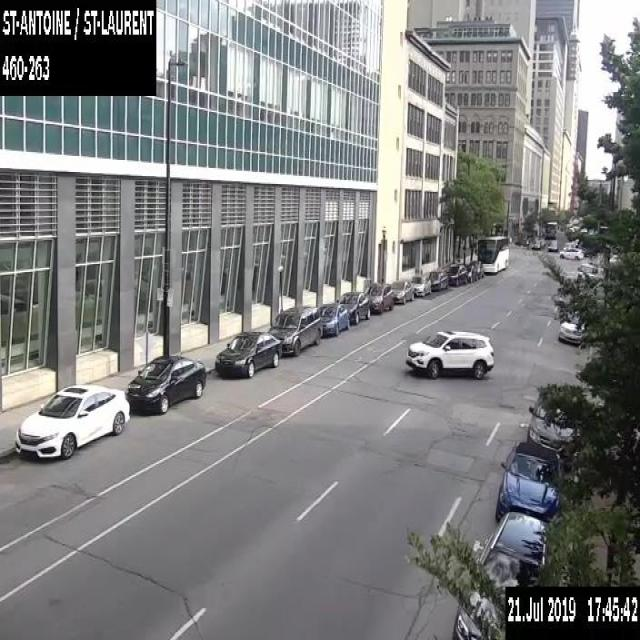bus: (474, 235, 508, 274)
construction: (134, 329, 156, 363), (582, 257, 602, 272)
vehicle: (451, 509, 550, 638), (14, 382, 130, 460), (495, 441, 563, 524), (125, 353, 206, 413), (404, 328, 496, 380), (526, 394, 580, 459), (214, 330, 281, 378), (266, 304, 322, 356), (558, 309, 589, 347), (337, 290, 370, 323), (318, 302, 349, 335), (364, 282, 393, 313), (391, 278, 413, 303), (446, 262, 467, 286), (409, 274, 431, 296), (428, 270, 448, 290), (468, 259, 484, 279), (558, 246, 582, 258), (464, 263, 476, 282), (530, 239, 542, 249), (562, 240, 572, 248)
